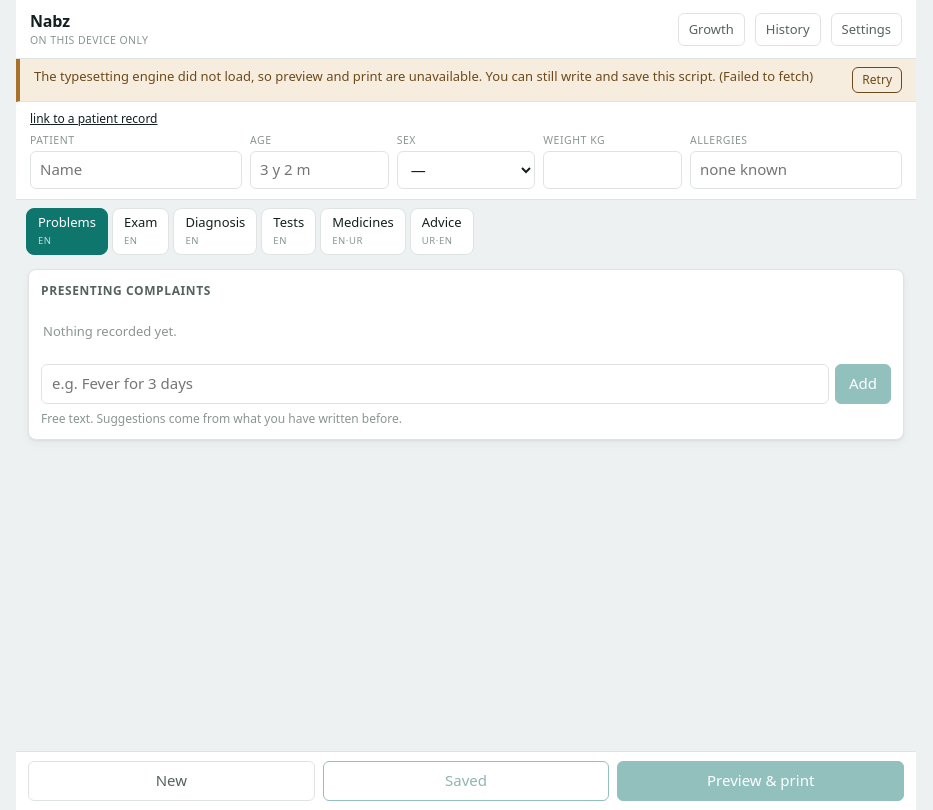
it: advice tiers › gives red flags no free-text field at all
Click the tab "Advice UR·EN".
click(442, 232)  # box [410,208,474,255]
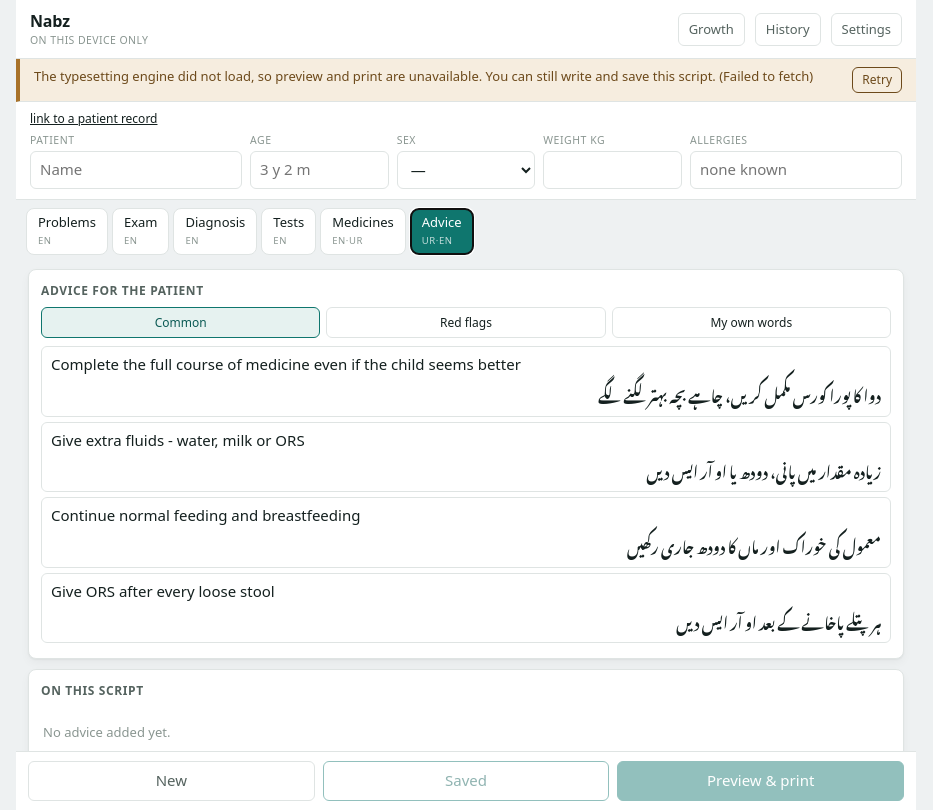
Click the button "Red flags".
click(466, 323)  # box [326,307,606,338]
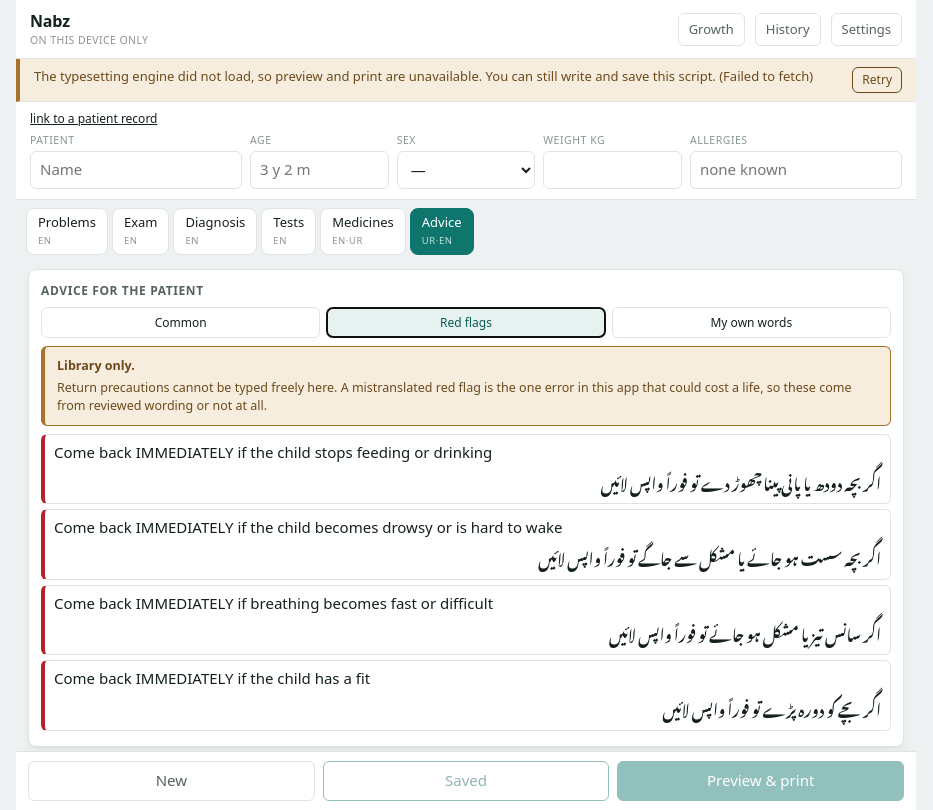
Expected: the text "Library only." is shown, [57,357,135,374]
